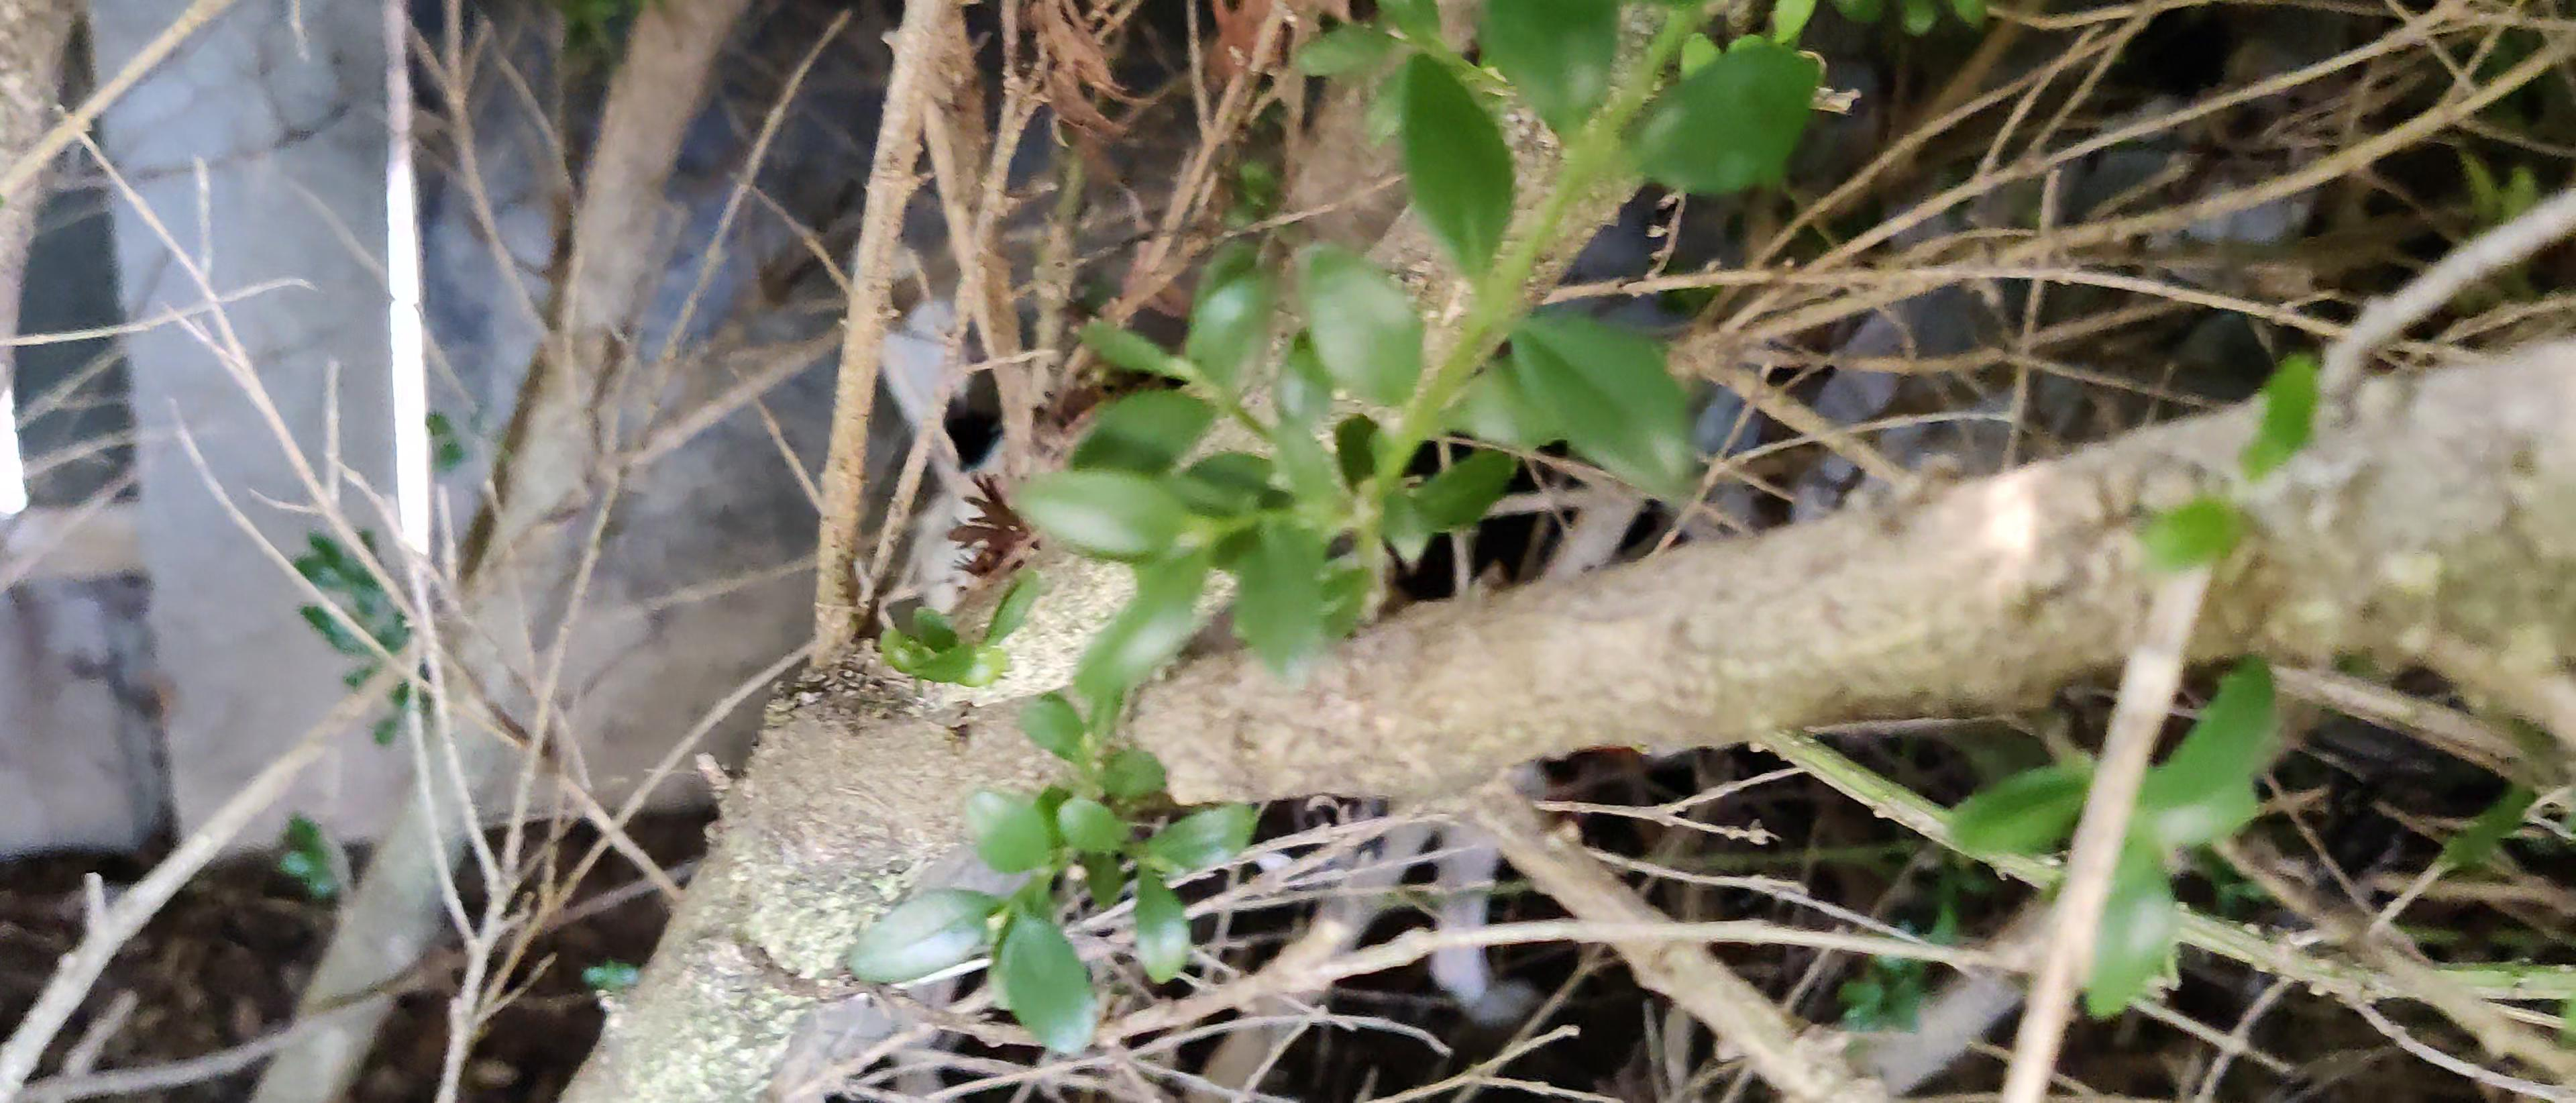Dog: (836, 210, 1626, 1032)
